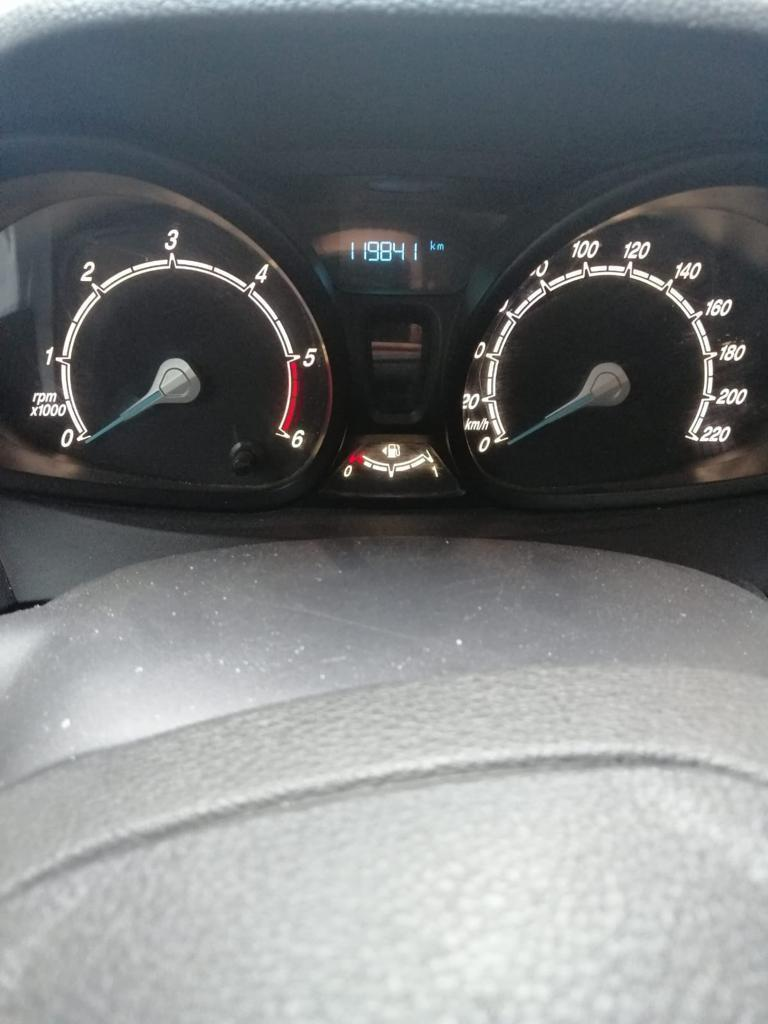1: (411, 241, 420, 263), (349, 238, 356, 260), (361, 239, 366, 262)
4: (392, 240, 406, 262)
8: (379, 239, 391, 261)
9: (367, 239, 379, 262)
X: (429, 238, 436, 251), (437, 241, 443, 251)
odometer: (334, 227, 458, 276)
